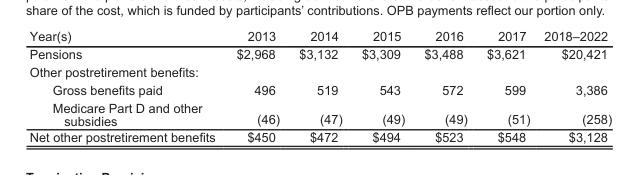table: (28, 28, 611, 143)
table column: (28, 28, 225, 143), (536, 28, 611, 143), (225, 28, 288, 143), (288, 28, 351, 143), (413, 28, 476, 143), (351, 28, 413, 143), (476, 28, 536, 143)
table column header: (28, 28, 611, 44)
table projected row header: (28, 62, 611, 80)
table row: (28, 98, 611, 128), (28, 44, 611, 62), (28, 62, 611, 80), (28, 80, 611, 98), (28, 28, 611, 44), (28, 128, 611, 143)
